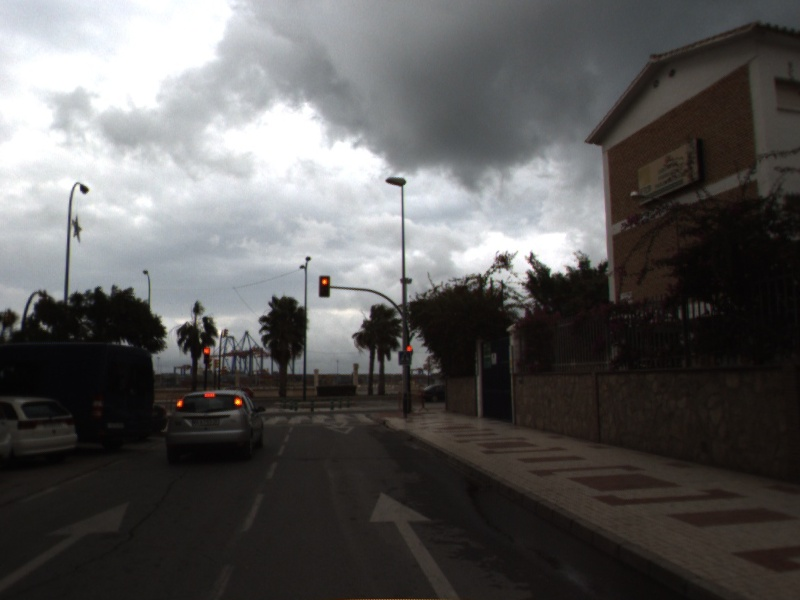STRAIGHT: (1, 496, 133, 591), (366, 489, 461, 600)
